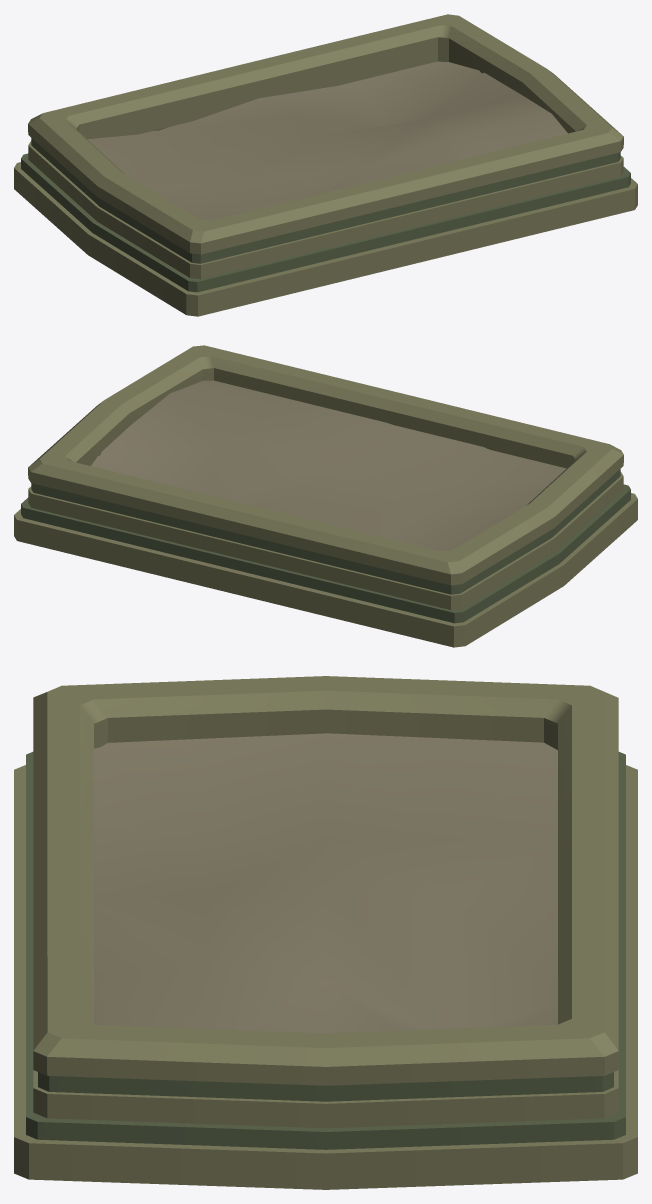
The model's file is clumb.fbx.
3 views of the same model, one above another, from view 1: azimuth 30°, elevation 25°; view 2: azimuth 150°, elevation 25°; view 3: azimuth 270°, elevation 25° (orthographic). The views are drawn at different scales.
Parts seen in each view (by area): view 1: clumb_main, clumb_ground; view 2: clumb_main, clumb_ground; view 3: clumb_main, clumb_ground.
Boxes of the visible parts, x1=… form: clumb_main: x1=14, y1=14, x2=637, y2=316; clumb_ground: x1=87, y1=61, x2=567, y2=220; clumb_main: x1=14, y1=345, x2=637, y2=647; clumb_ground: x1=91, y1=380, x2=566, y2=551; clumb_main: x1=14, y1=676, x2=637, y2=1189; clumb_ground: x1=94, y1=733, x2=557, y2=1033.
Size of the model in its own units: 10.78 by 1.6 by 7.1.
